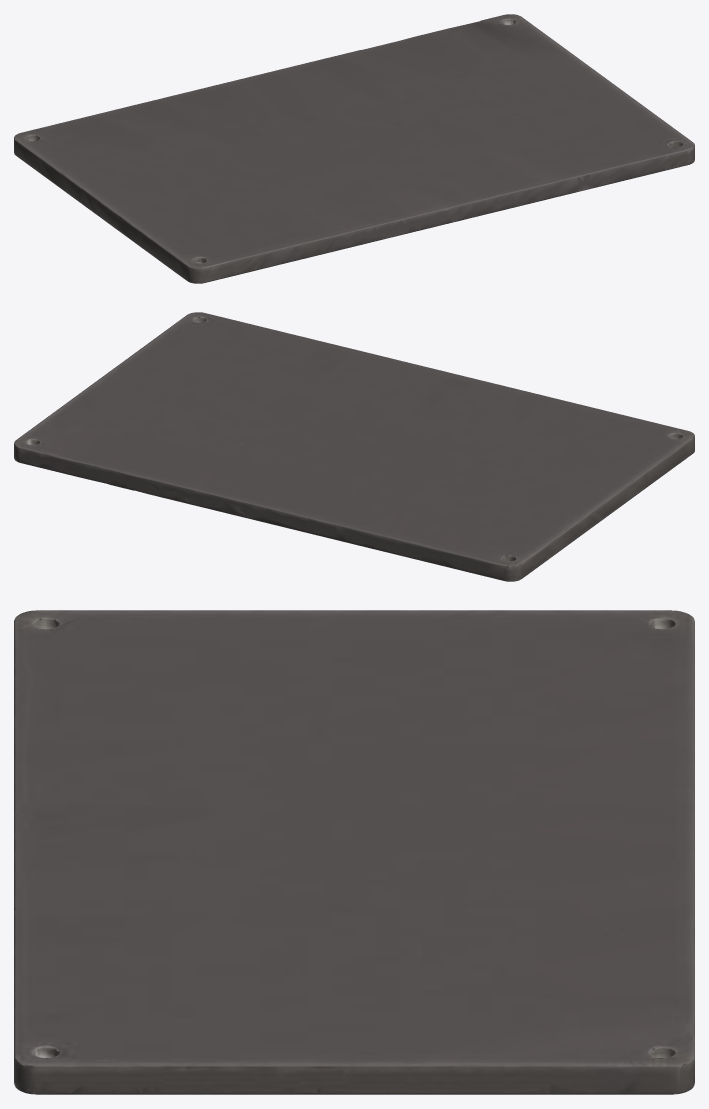
The model's file is piece_panel_smooth.glb.
3 views of the same model, one above another, from view 1: azimuth 30°, elevation 25°; view 2: azimuth 150°, elevation 25°; view 3: azimuth 270°, elevation 25° (orthographic). The views are drawn at different scales.
Visible parts, largest first — view 1: trait_panel_smooth; view 2: trait_panel_smooth; view 3: trait_panel_smooth.
Part boxes in pixels (x1,y1,x2,y2): trait_panel_smooth: (14, 14, 694, 283); trait_panel_smooth: (14, 312, 694, 581); trait_panel_smooth: (14, 610, 694, 1094).
Bounding box in the file's own units: 0.2868 × 0.00859 × 0.1809.
Materials: 1 (1 with a texture image).
